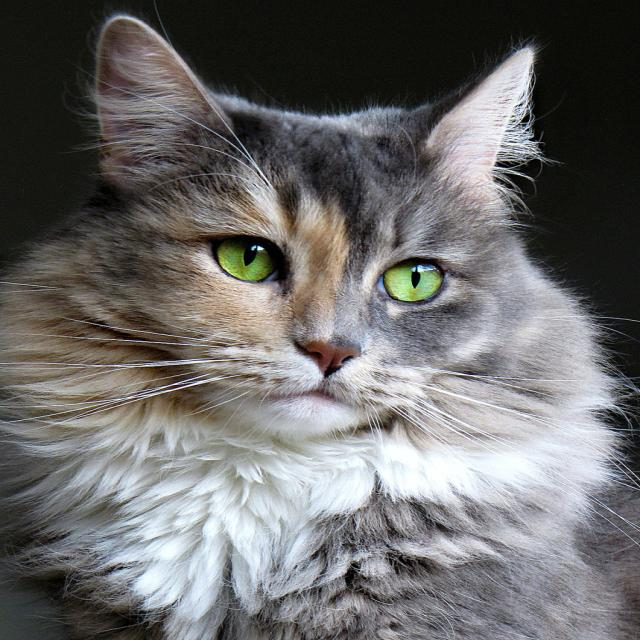Cat: (0, 13, 637, 639)
